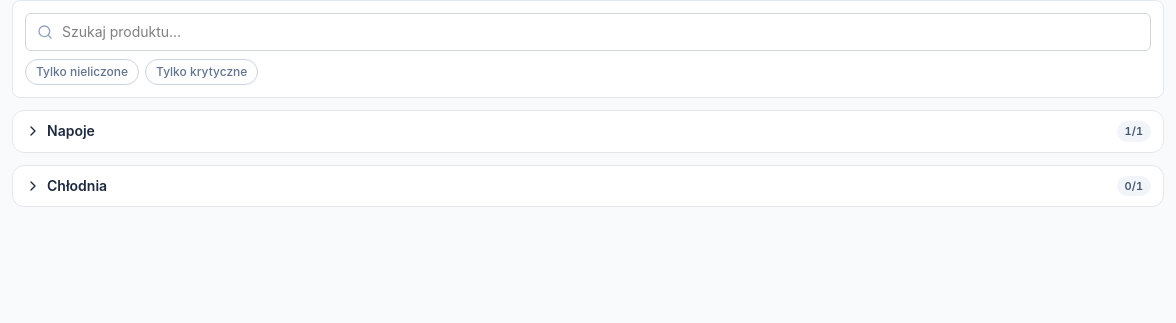
Test: InventoryCountGrid toolbar › 'tylko nieliczone' hides counted products and expands the rest
What coordinates should you click on to do the following:
click the button "Tylko nieliczone"
I would click on:
 (82, 72)
Its box is top-left (25, 59), bottom-right (139, 85).
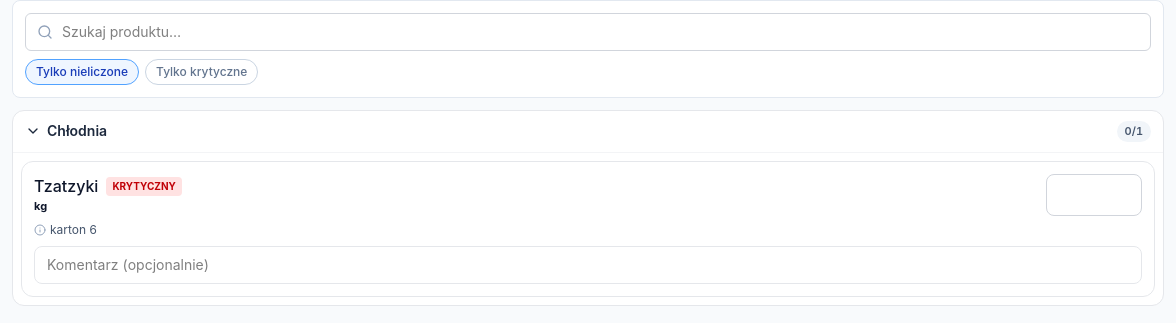
Now the text "Tzatzyki" is shown, box top-left (34, 174), bottom-right (98, 198)
